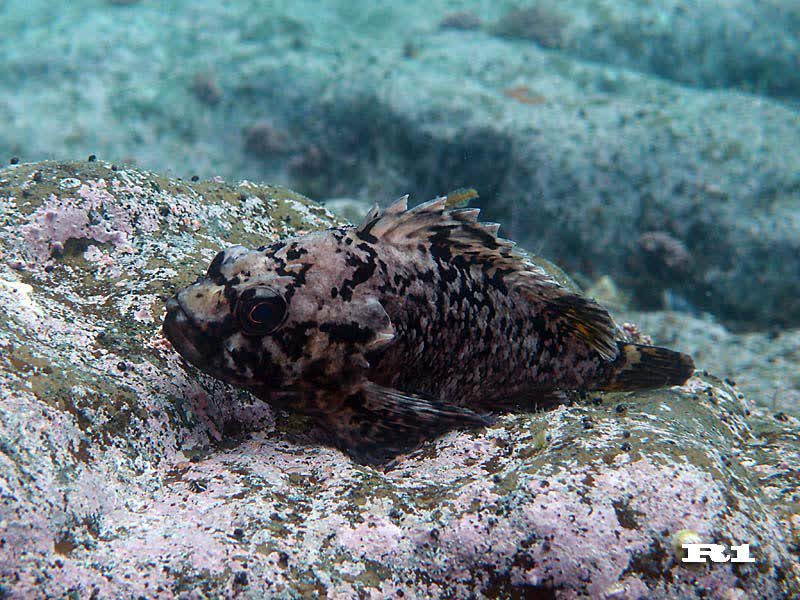kasago: (159, 178, 759, 470)
